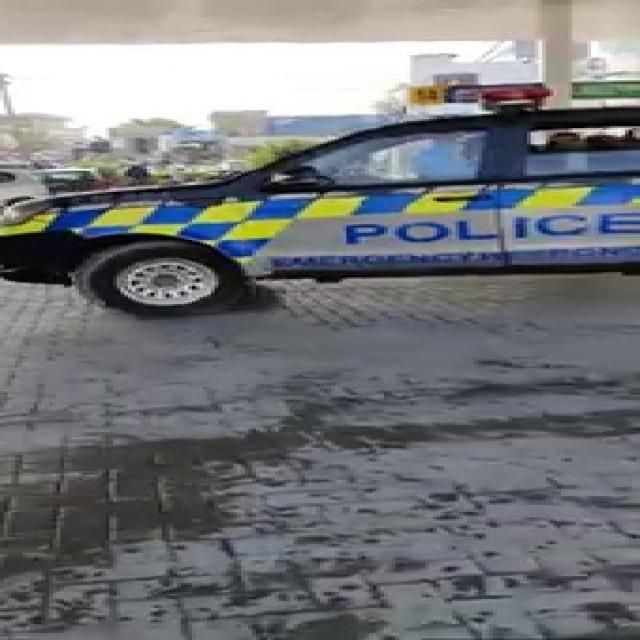police: (10, 62, 628, 308)
